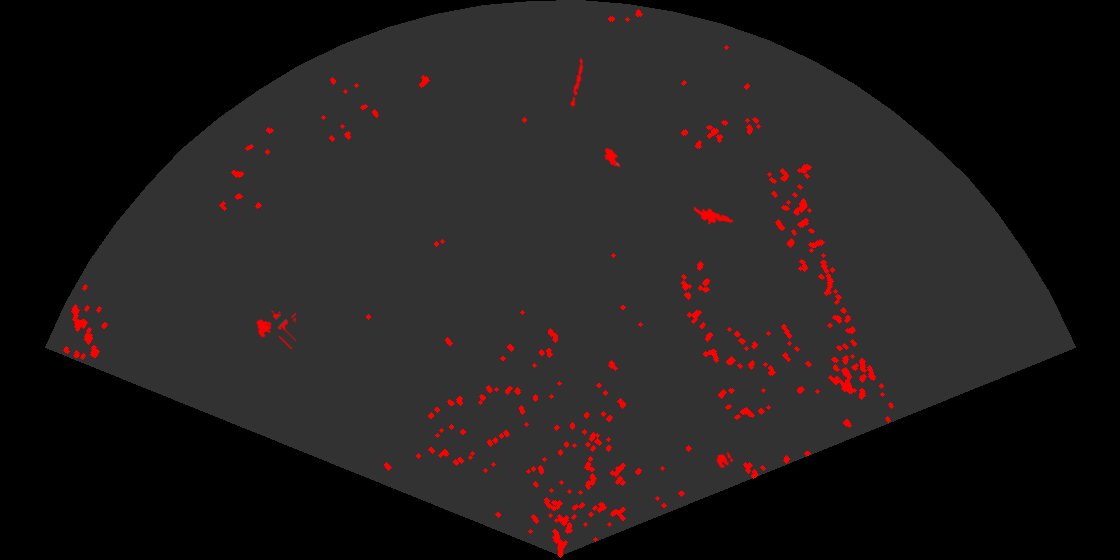AUV: (603, 146, 622, 169)
ball: (714, 450, 735, 470)
cage: (255, 309, 296, 349)
chain: (569, 57, 585, 109)
frogman: (694, 205, 735, 226)
